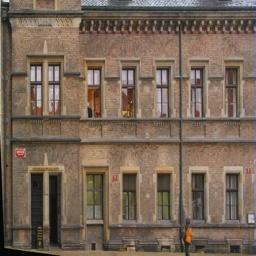building: (0, 0, 256, 252)
